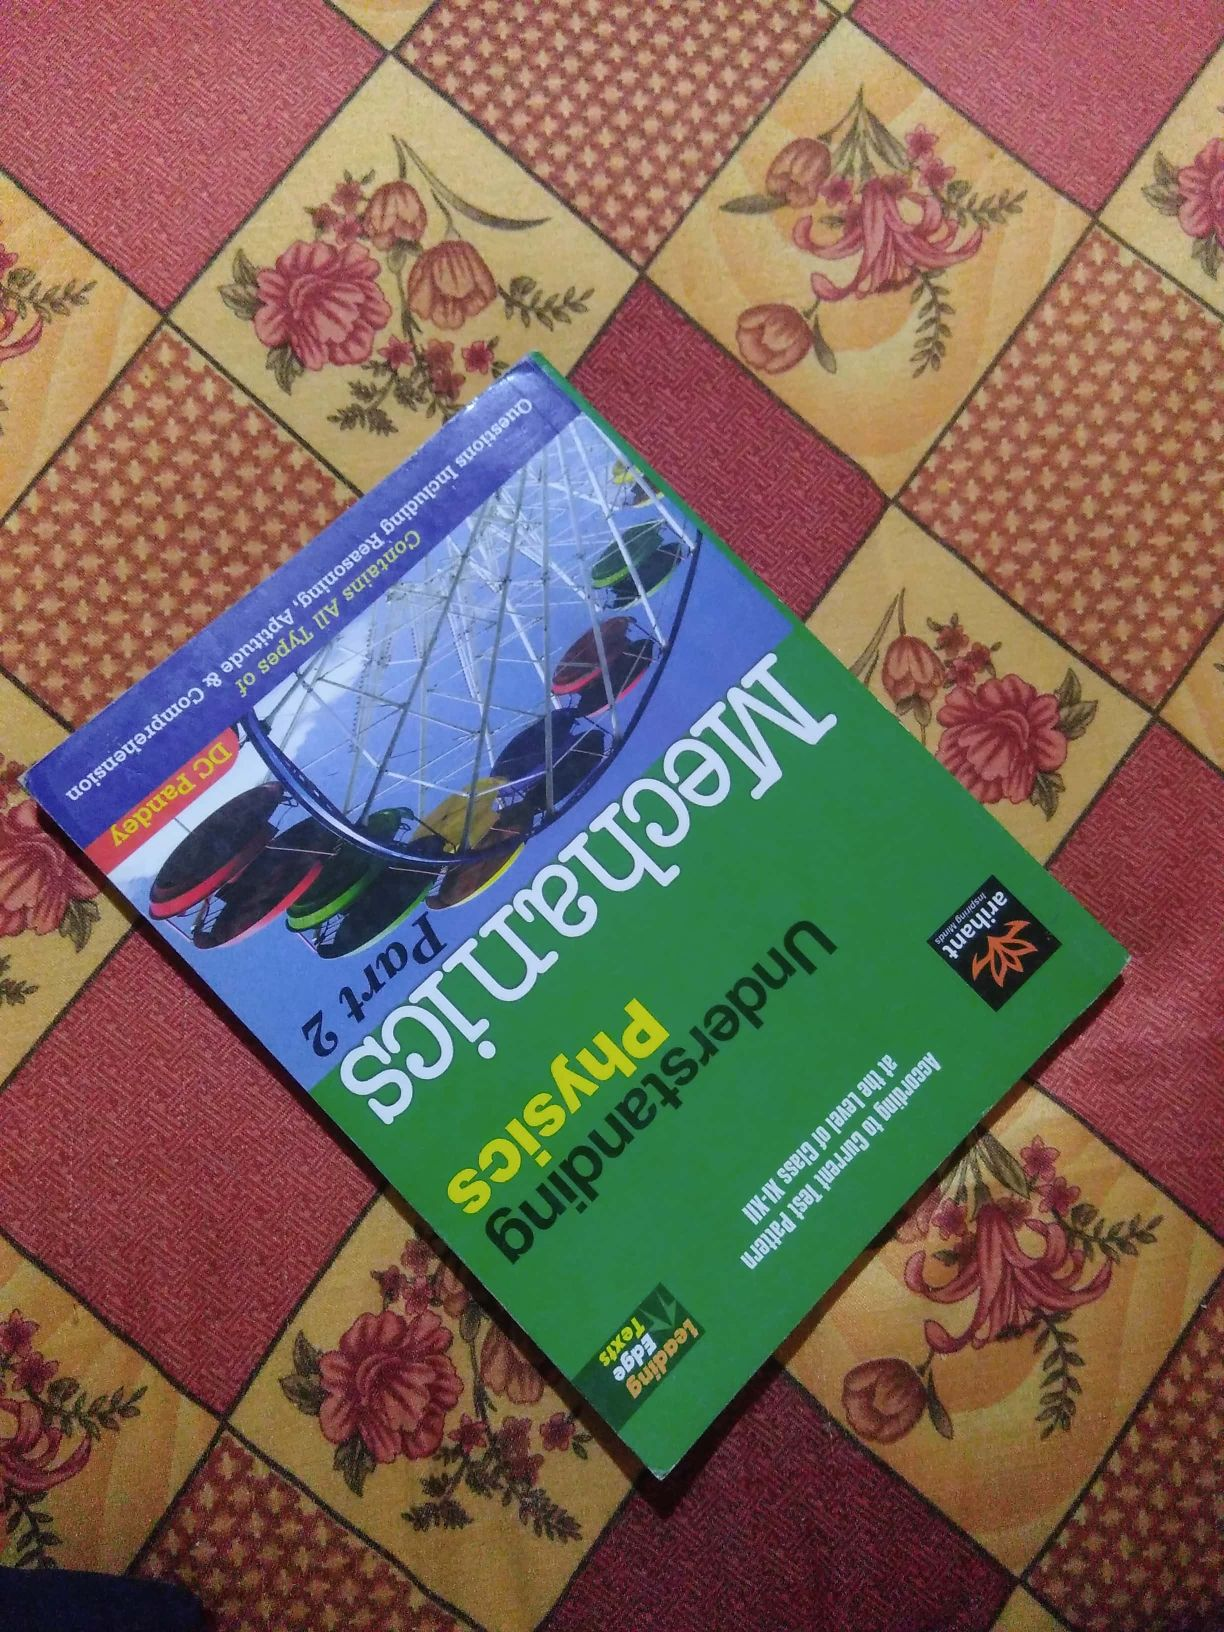mechanics: (51, 351, 1151, 1489)
